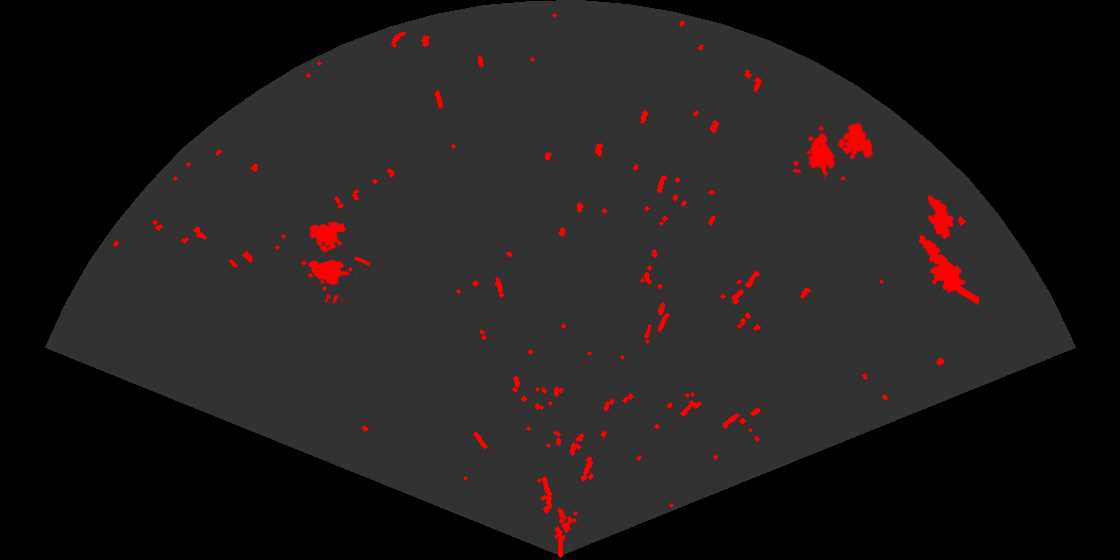AUV: (926, 194, 955, 241)
cage: (300, 220, 370, 303), (793, 121, 875, 180)
frogman: (917, 233, 979, 305)
